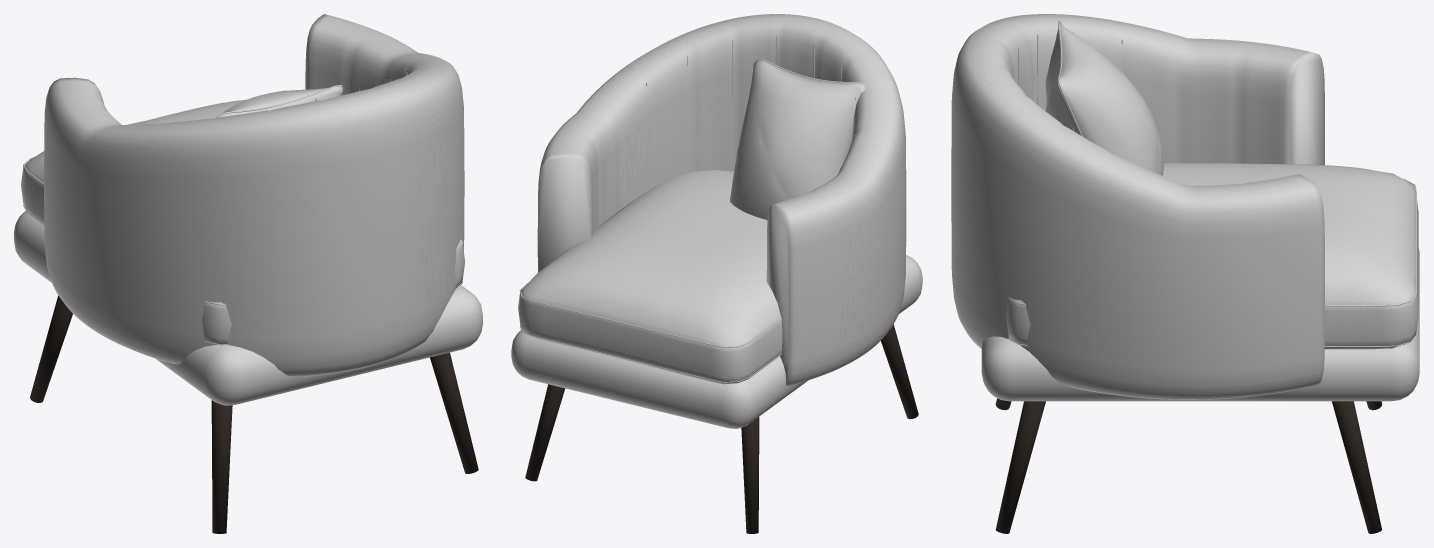
Rendered from armchair-compact.glb.
3 renders of one model, left to right at view 1: azimuth 30°, elevation 25°; view 2: azimuth 150°, elevation 25°; view 3: azimuth 270°, elevation 25°, orthographic. The views are drawn at different scales.
Visible parts, largest first — view 1: Curved channelled upholstered shell, Seat foundation, Full rounded seat, Splayed satin leg, Splayed satin leg.002, Splayed satin leg.001, Loose back pillow; view 2: Curved channelled upholstered shell, Full rounded seat, Loose back pillow, Seat foundation, Splayed satin leg.001, Splayed satin leg.003, Splayed satin leg, Full rounded seat · upper stitched edge; view 3: Curved channelled upholstered shell, Full rounded seat, Seat foundation, Loose back pillow, Splayed satin leg.002, Splayed satin leg.003.
Part boxes in pixels (x1=…): Curved channelled upholstered shell: x1=44, y1=14, x2=464, y2=376; Seat foundation: x1=14, y1=211, x2=482, y2=405; Full rounded seat: x1=21, y1=99, x2=464, y2=344; Splayed satin leg: x1=211, y1=400, x2=232, y2=533; Splayed satin leg.002: x1=430, y1=352, x2=478, y2=473; Splayed satin leg.001: x1=30, y1=295, x2=72, y2=402; Loose back pillow: x1=218, y1=86, x2=343, y2=117; Curved channelled upholstered shell: x1=537, y1=14, x2=906, y2=385; Full rounded seat: x1=518, y1=170, x2=906, y2=384; Loose back pillow: x1=730, y1=59, x2=865, y2=219; Seat foundation: x1=511, y1=255, x2=922, y2=428; Splayed satin leg.001: x1=741, y1=417, x2=759, y2=533; Splayed satin leg.003: x1=525, y1=384, x2=565, y2=481; Splayed satin leg: x1=881, y1=324, x2=918, y2=419; Full rounded seat · upper stitched edge: x1=519, y1=283, x2=781, y2=347; Curved channelled upholstered shell: x1=951, y1=14, x2=1324, y2=399; Full rounded seat: x1=1006, y1=162, x2=1418, y2=349; Seat foundation: x1=981, y1=248, x2=1419, y2=401; Loose back pillow: x1=1045, y1=21, x2=1163, y2=175; Splayed satin leg.002: x1=995, y1=401, x2=1045, y2=533; Splayed satin leg.003: x1=1332, y1=401, x2=1381, y2=533.
Size of the model in its own units: 0.6875 by 0.7754 by 0.7821.
2 materials, 1 textured.
